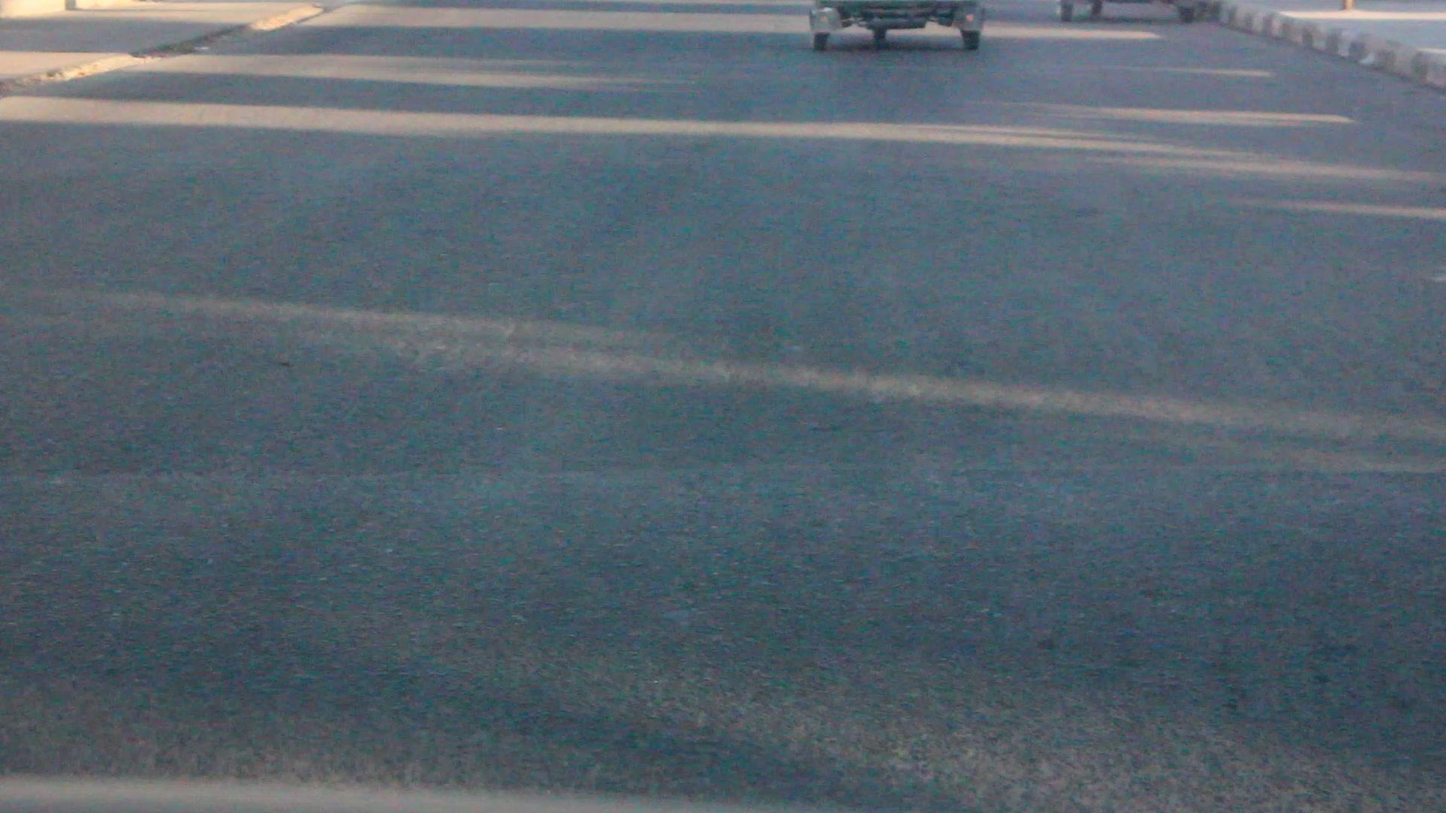Bump: (19, 469, 1446, 717)
